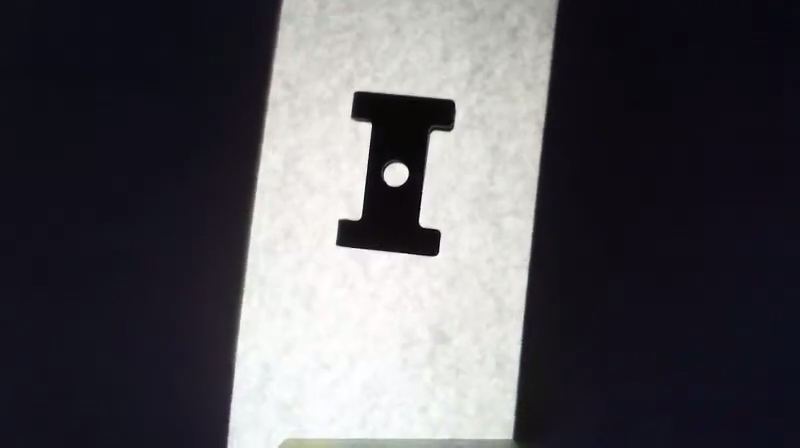O002: (330, 85, 460, 265)
